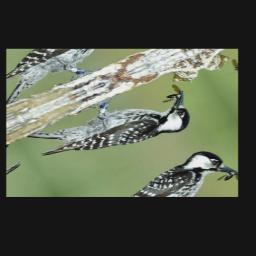Woodpecker: (24, 75, 205, 184)
